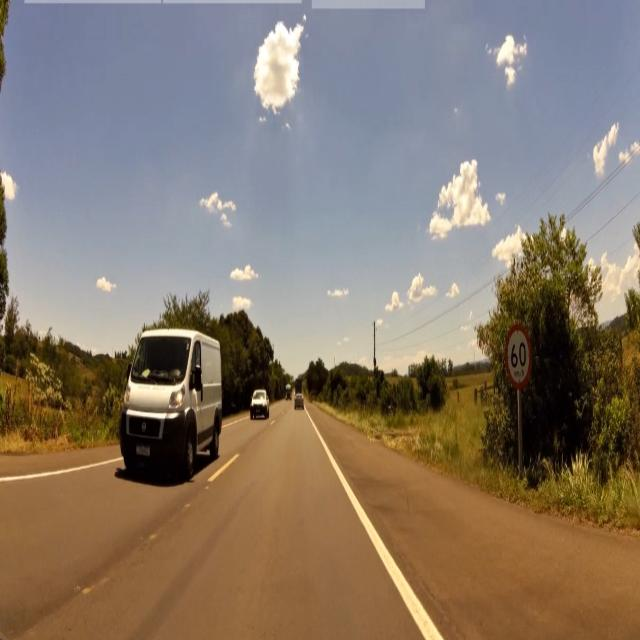R-19: (505, 316, 533, 388)
